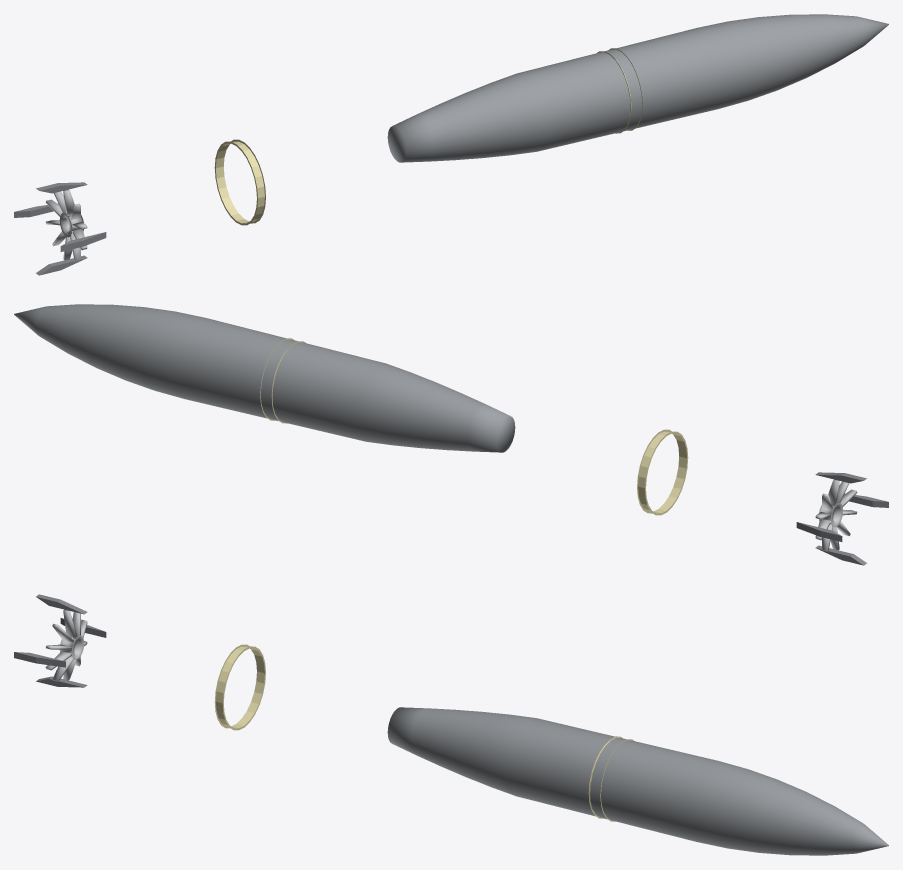
Rendered from US_TORP_Mk16_LOD1.fbx.
3 renders of one model, top to bottom at view 1: azimuth 30°, elevation 25°; view 2: azimuth 150°, elevation 25°; view 3: azimuth 330°, elevation 25°, orthographic.
Parts seen in each view (by area): view 1: WPN_US_TORP_Mk16_LOD1_Body, WPN_US_TORP_Mk16_LOD1_Marking, WPN_US_TORP_Mk16_LOD1_Propulsor, WPN_US_TORP_Mk16_LOD1_Fins; view 2: WPN_US_TORP_Mk16_LOD1_Body, WPN_US_TORP_Mk16_LOD1_Marking, WPN_US_TORP_Mk16_LOD1_Propulsor, WPN_US_TORP_Mk16_LOD1_Fins; view 3: WPN_US_TORP_Mk16_LOD1_Body, WPN_US_TORP_Mk16_LOD1_Marking, WPN_US_TORP_Mk16_LOD1_Propulsor, WPN_US_TORP_Mk16_LOD1_Fins.
Boxes of the visible parts, box(x1,y1,x2,y2) form: WPN_US_TORP_Mk16_LOD1_Body: box(387, 14, 888, 162); WPN_US_TORP_Mk16_LOD1_Marking: box(214, 48, 642, 225); WPN_US_TORP_Mk16_LOD1_Propulsor: box(45, 189, 87, 261); WPN_US_TORP_Mk16_LOD1_Fins: box(14, 182, 106, 275); WPN_US_TORP_Mk16_LOD1_Body: box(14, 304, 515, 452); WPN_US_TORP_Mk16_LOD1_Marking: box(260, 338, 688, 515); WPN_US_TORP_Mk16_LOD1_Propulsor: box(815, 479, 857, 551); WPN_US_TORP_Mk16_LOD1_Fins: box(796, 472, 888, 565); WPN_US_TORP_Mk16_LOD1_Body: box(387, 707, 888, 855); WPN_US_TORP_Mk16_LOD1_Marking: box(214, 644, 633, 821); WPN_US_TORP_Mk16_LOD1_Propulsor: box(45, 609, 87, 681); WPN_US_TORP_Mk16_LOD1_Fins: box(14, 594, 106, 687).
Size of the model in its own units: 6.24 by 0.5932 by 0.5932.
